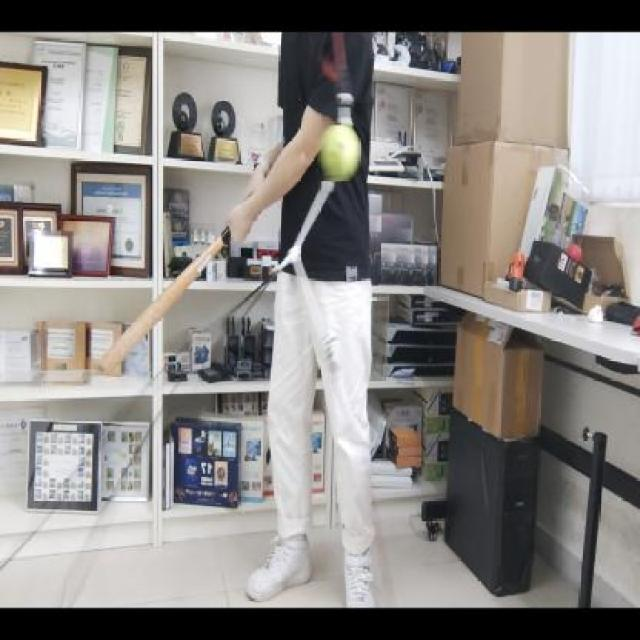baseball: (319, 123, 364, 177)
